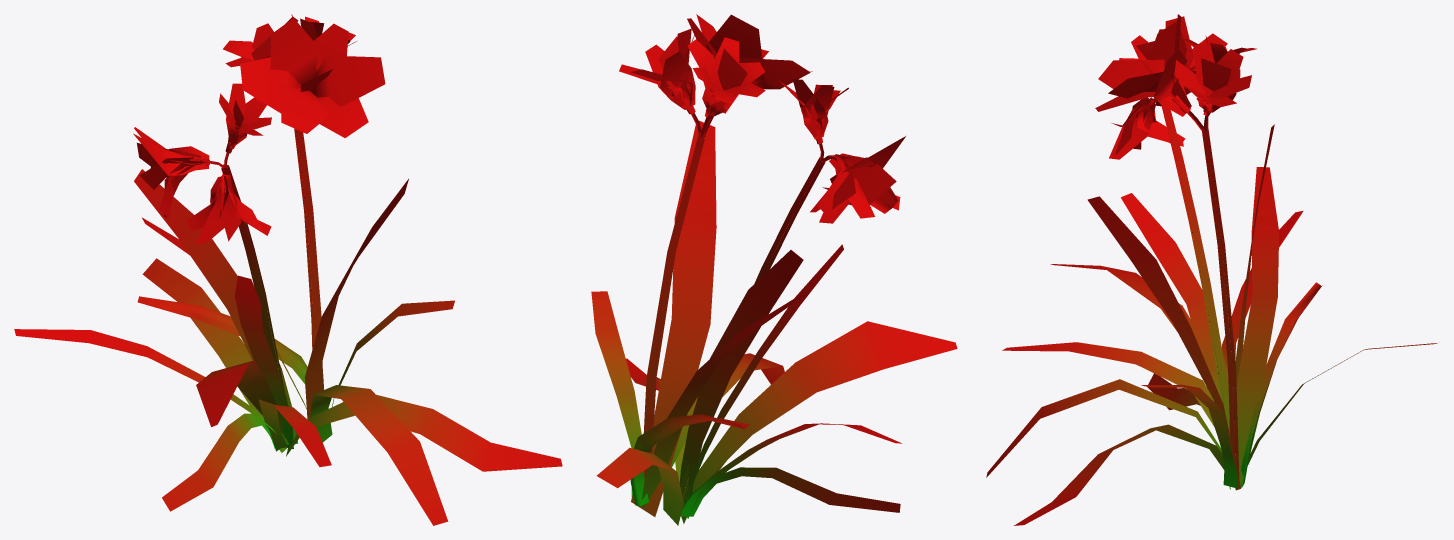
Rendered from Var4_LOD2.fbx.
The picture shows the model from 3 angles, left to right: view 1: azimuth 30°, elevation 25°; view 2: azimuth 150°, elevation 25°; view 3: azimuth 270°, elevation 25°; orthographic projection. The views are drawn at different scales.
Visible parts, largest first — view 1: _b79c_Var4_LOD2; view 2: _b79c_Var4_LOD2; view 3: _b79c_Var4_LOD2.
Part boxes in pixels (box(x1,y1,x2,y2)): _b79c_Var4_LOD2: box(14, 14, 562, 525); _b79c_Var4_LOD2: box(591, 14, 957, 525); _b79c_Var4_LOD2: box(986, 14, 1437, 525).
Size of the model in its own units: 73.9 by 80.35 by 72.84.
